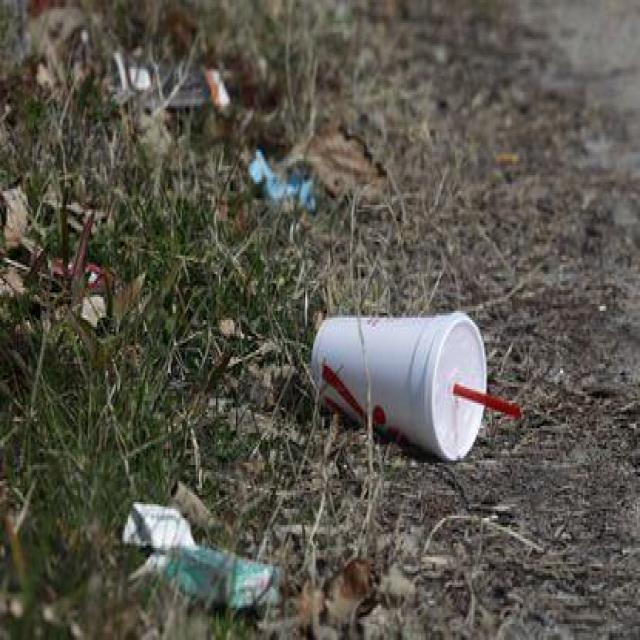litter: (298, 308, 529, 479), (114, 495, 282, 615)
